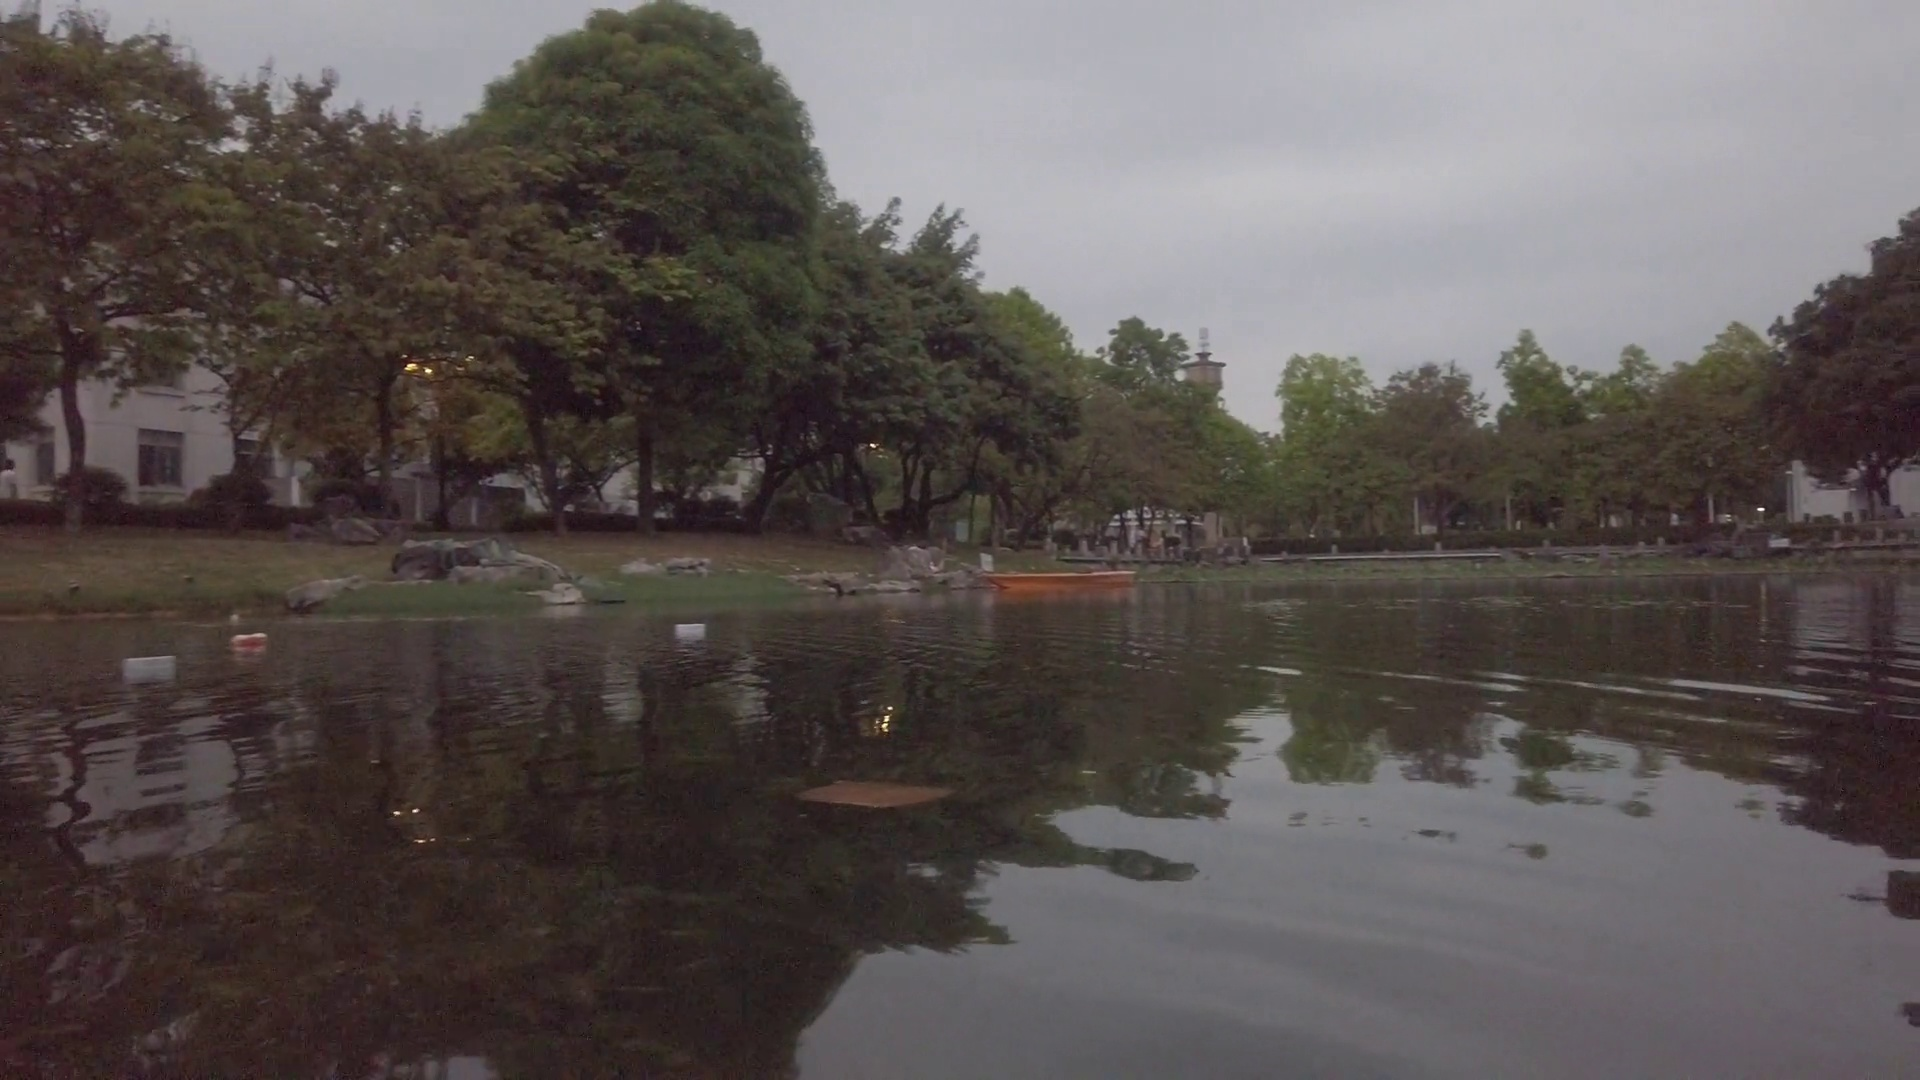bottle: (229, 632, 270, 647)
carton: (124, 655, 175, 680), (676, 622, 707, 638)
paper: (793, 777, 959, 807)
